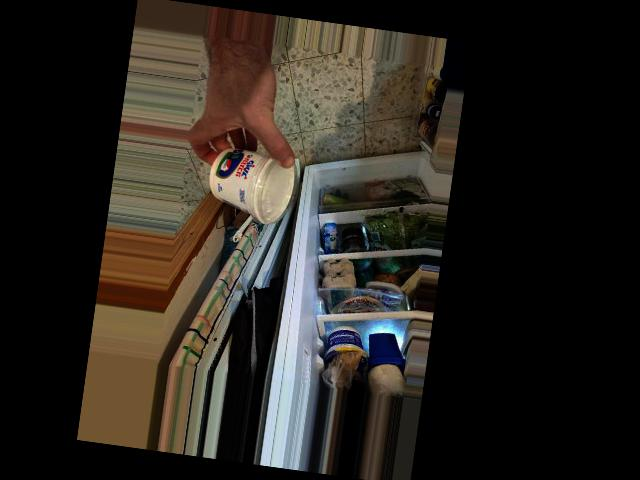cotage: (201, 137, 296, 224)
